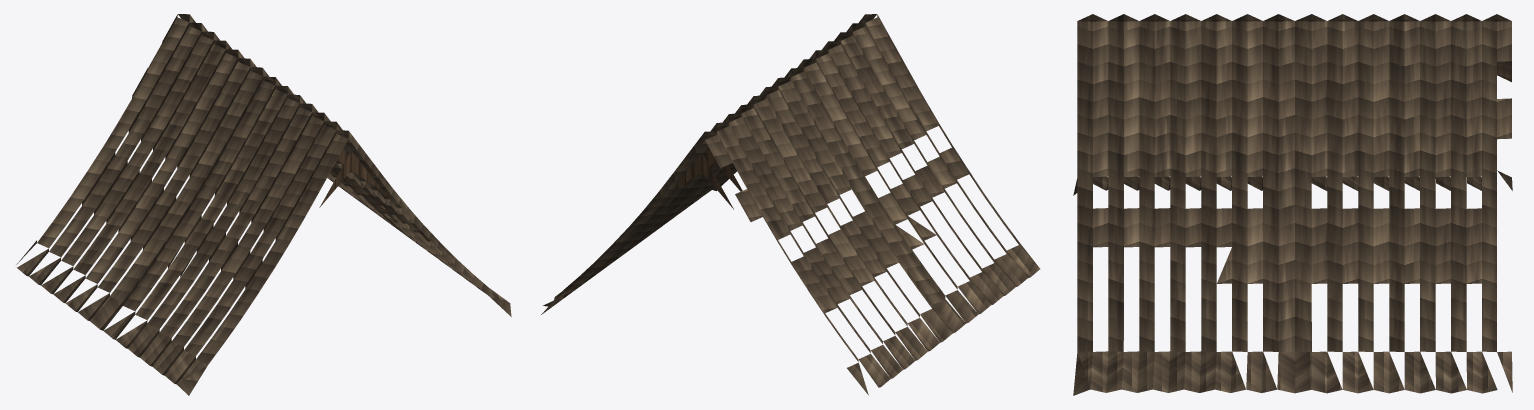
File: Roof_Shingle_6x6_LOD1.gltf
3 renders of one model, left to right at view 1: azimuth 30°, elevation 25°; view 2: azimuth 150°, elevation 25°; view 3: azimuth 270°, elevation 25°, orthographic. The views are drawn at different scales.
Visible parts, largest first — view 1: Roof_Shingle_6x6_LOD1; view 2: Roof_Shingle_6x6_LOD1; view 3: Roof_Shingle_6x6_LOD1.
Part boxes in pixels (box(x1,y1,x2,y2)): Roof_Shingle_6x6_LOD1: box(16, 14, 511, 395); Roof_Shingle_6x6_LOD1: box(541, 14, 1040, 395); Roof_Shingle_6x6_LOD1: box(1073, 14, 1512, 395).
Bounding box in the file's own units: 8.25 × 5.17 × 7.59.
Materials: 2 (2 with a texture image).
